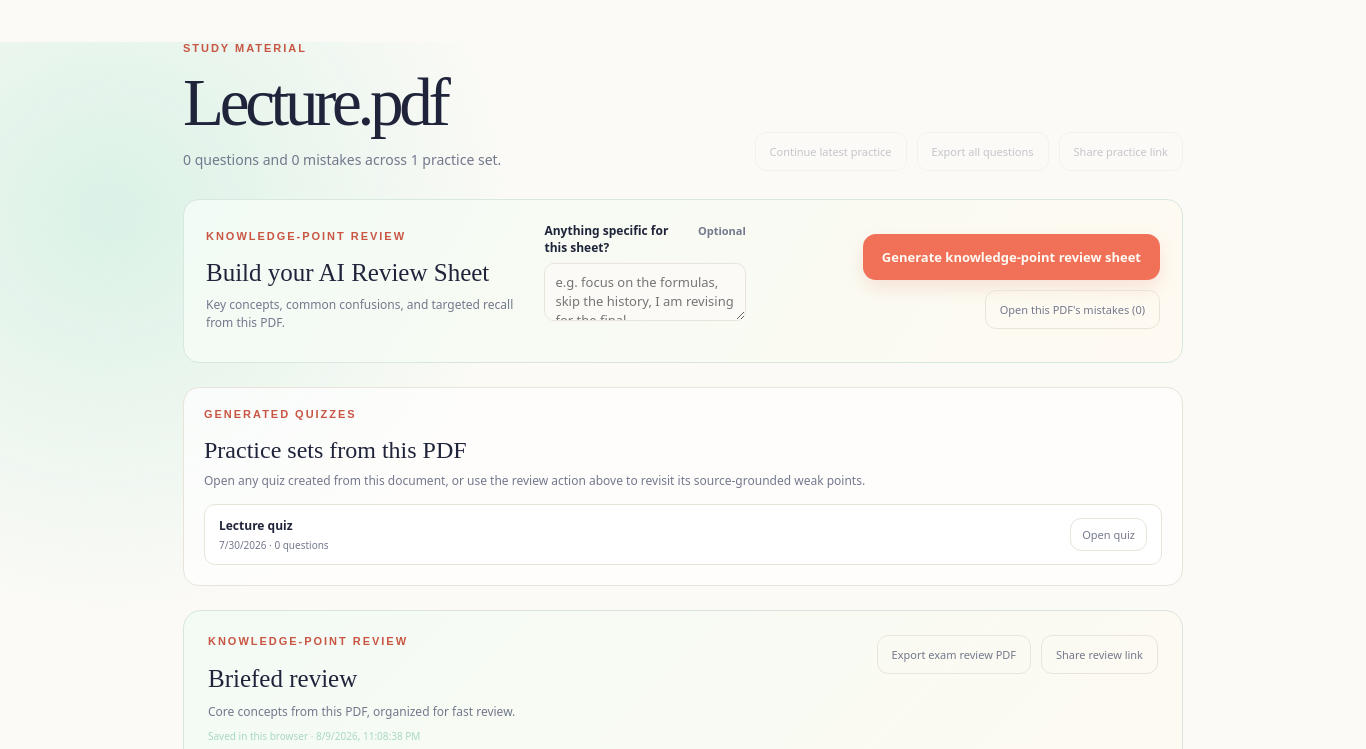
Test: MaterialDetailView › generates a source-grounded exam review from the material's saved source
Click the button "Generate knowledge-point review sheet" at (1011, 257), box [863, 234, 1160, 280]
(page scrolled)
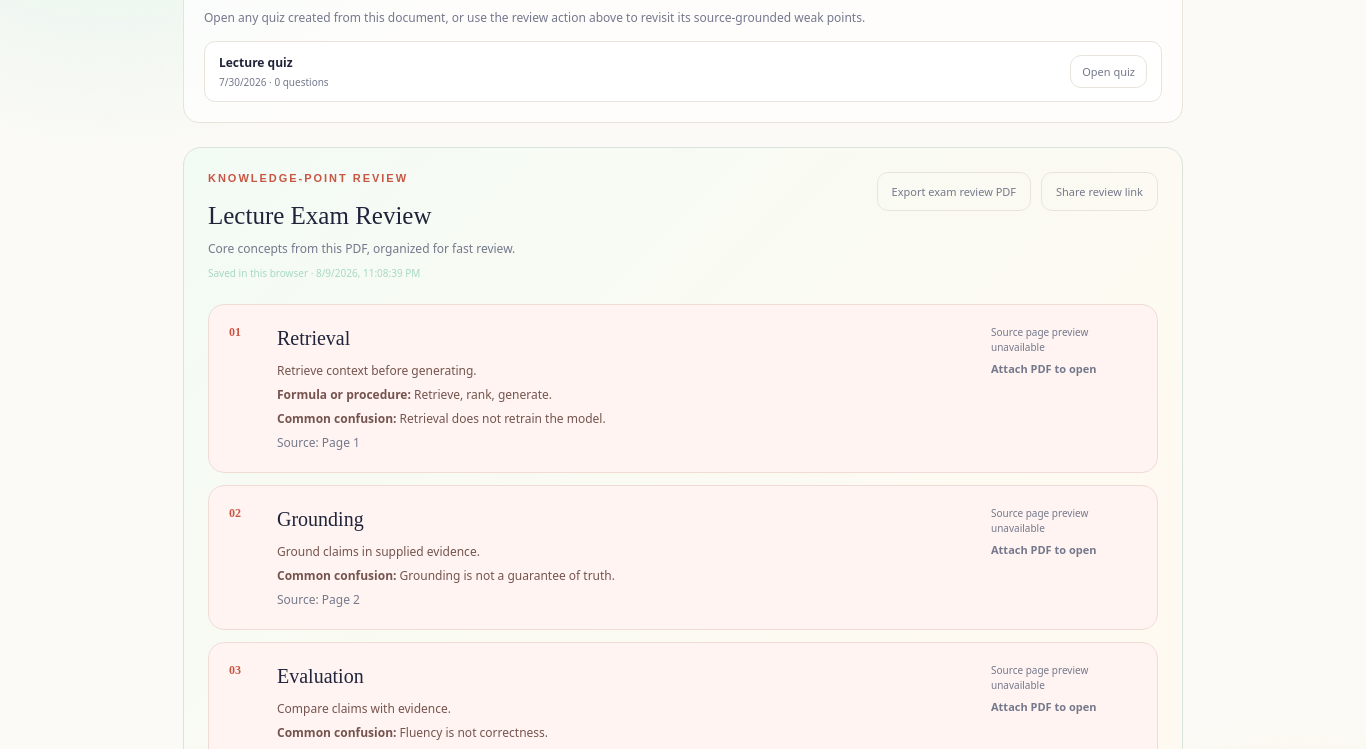
Check: the heading "Lecture Exam Review" is shown, box [208, 202, 432, 229]
Check: the text "Retrieve context before generating." is shown, box [277, 362, 477, 379]
